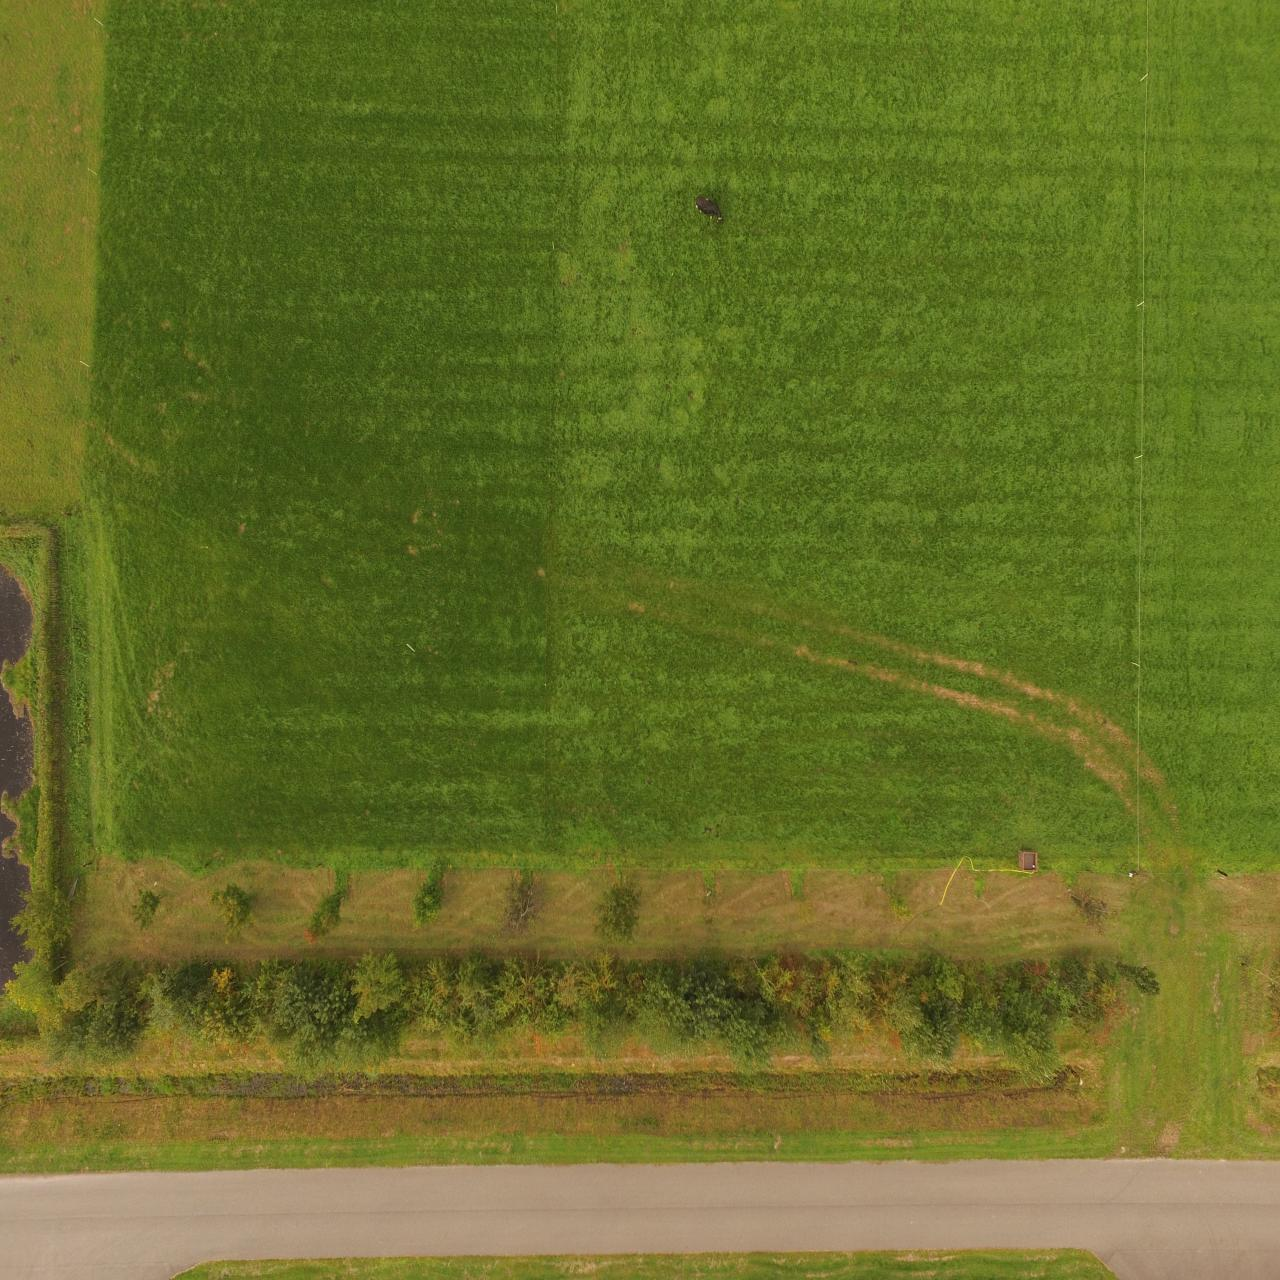cow: (693, 195, 727, 227)
